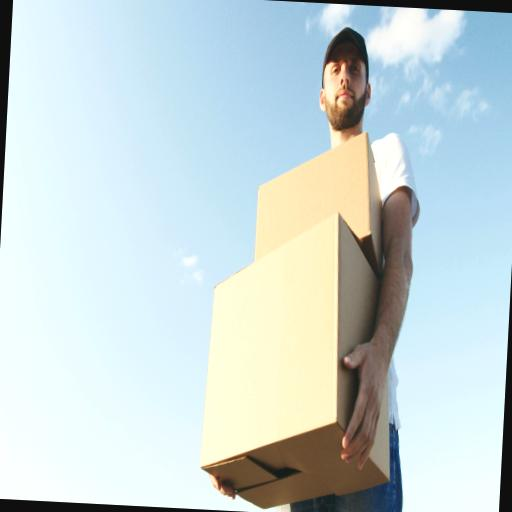Gloves: (336, 312, 402, 474)
